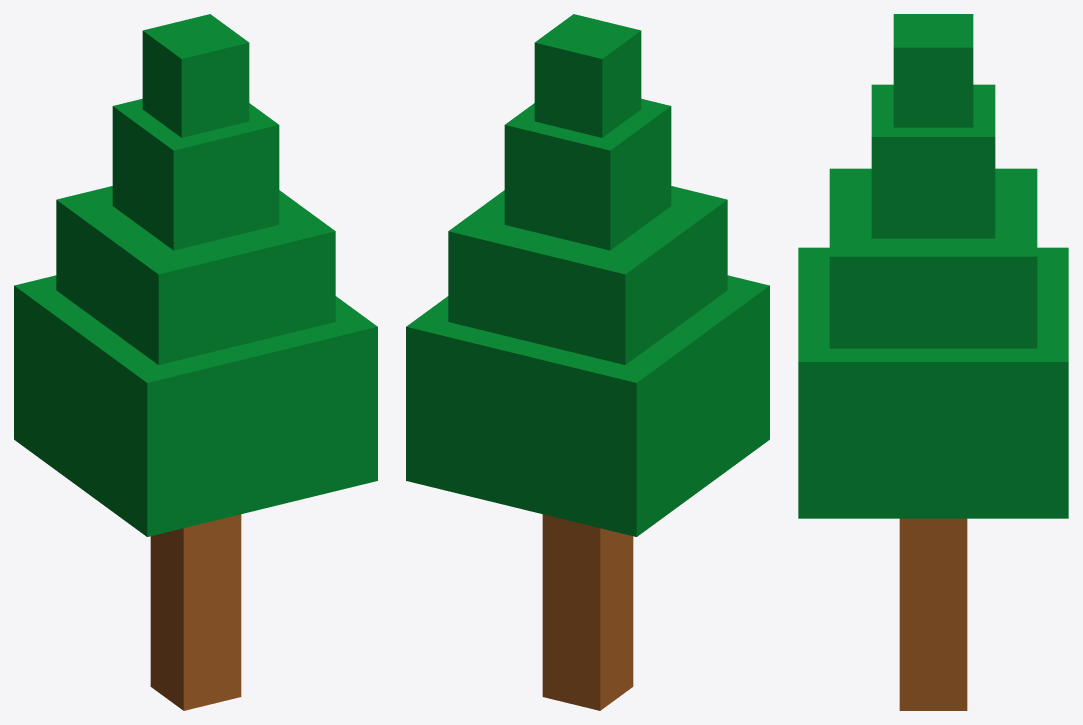
File: STADIUM_Tree_4_Mesh.fbx
The picture shows the model from 3 angles, left to right: view 1: azimuth 30°, elevation 25°; view 2: azimuth 150°, elevation 25°; view 3: azimuth 270°, elevation 25°; orthographic projection.
Visible parts, largest first — view 1: STADIUM_Tree_4_Mesh; view 2: STADIUM_Tree_4_Mesh; view 3: STADIUM_Tree_4_Mesh.
Part boxes in pixels (x1=…): STADIUM_Tree_4_Mesh: x1=14, y1=14, x2=377, y2=710; STADIUM_Tree_4_Mesh: x1=406, y1=14, x2=769, y2=710; STADIUM_Tree_4_Mesh: x1=798, y1=14, x2=1068, y2=710.
Size of the model in its own units: 16 by 43.45 by 16.
